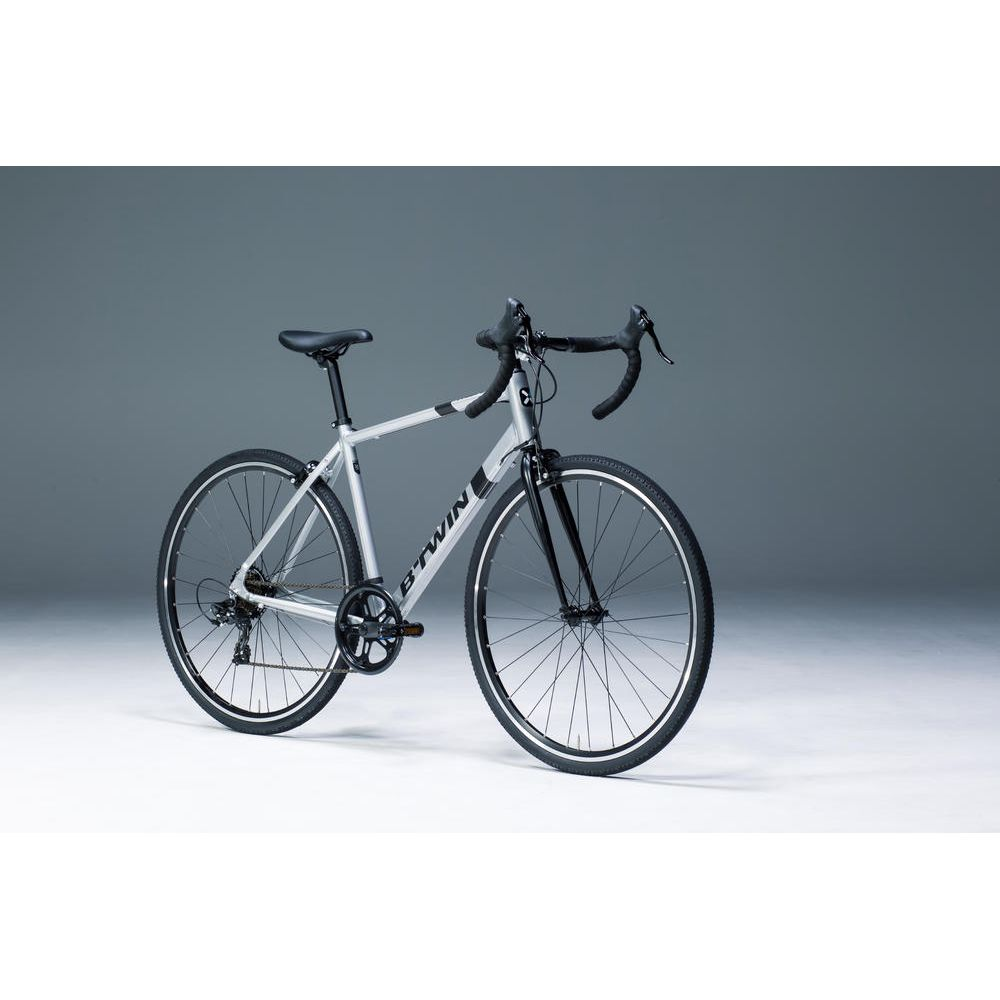RoadBike: (603, 519, 775, 689), (445, 531, 602, 698), (205, 547, 281, 654)
